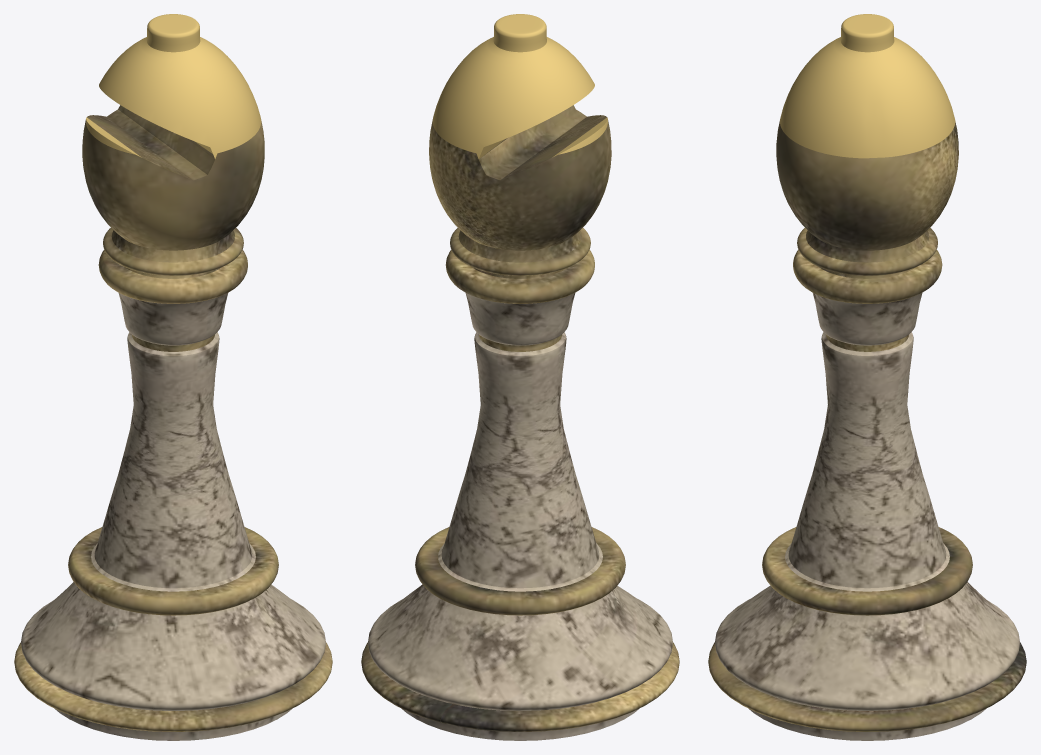
The picture shows the model from 3 angles, left to right: view 1: azimuth 30°, elevation 25°; view 2: azimuth 150°, elevation 25°; view 3: azimuth 270°, elevation 25°; orthographic projection.
Parts seen in each view (by area): view 1: x; view 2: x; view 3: x.
Boxes of the visible parts, bbox=[...] form: x: bbox=[14, 14, 332, 740]; x: bbox=[361, 14, 679, 740]; x: bbox=[708, 14, 1026, 740].
Size of the model in its own units: 0.3922 by 0.9 by 0.3922.
2 materials, 1 textured.
